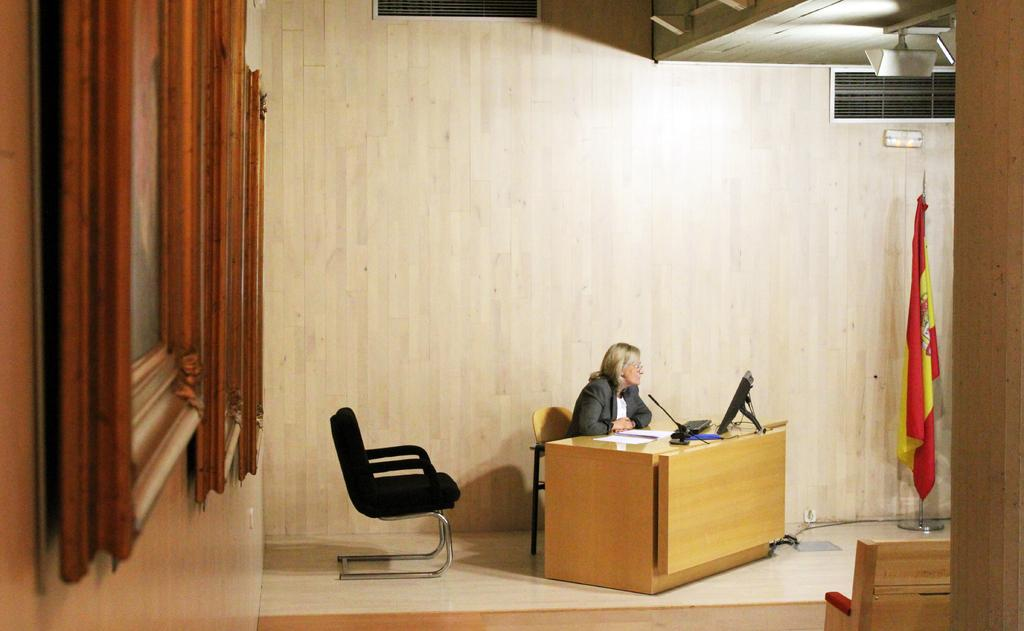Chair: (332, 411, 461, 578), (822, 537, 952, 630), (530, 404, 576, 557)
